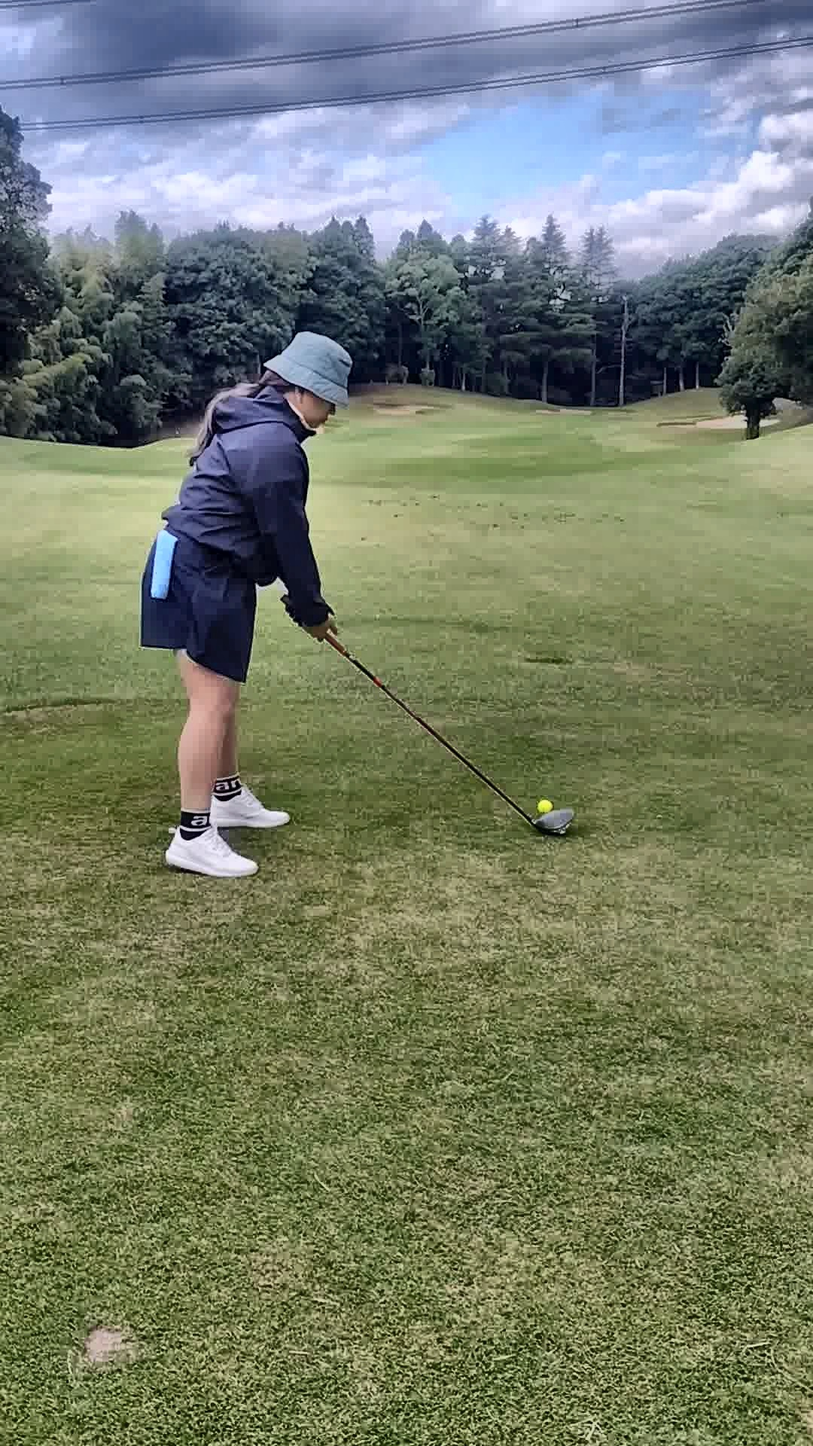clubhead: (416, 689, 701, 937)
